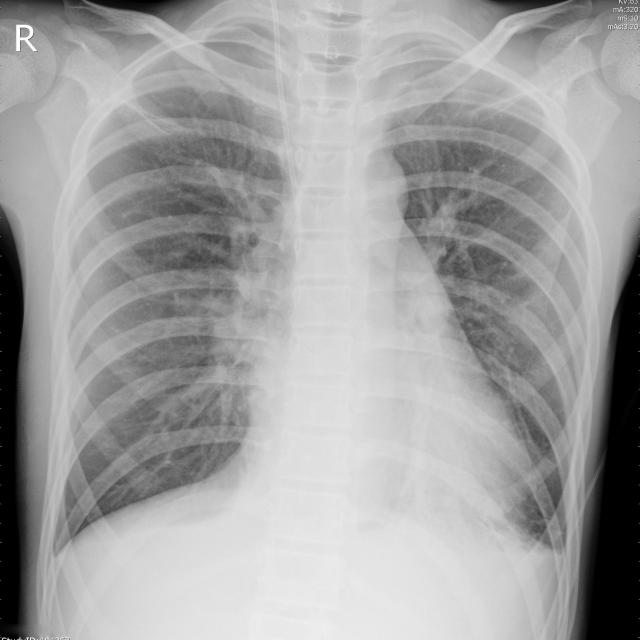low-pneumonia: (184, 257, 272, 408)
